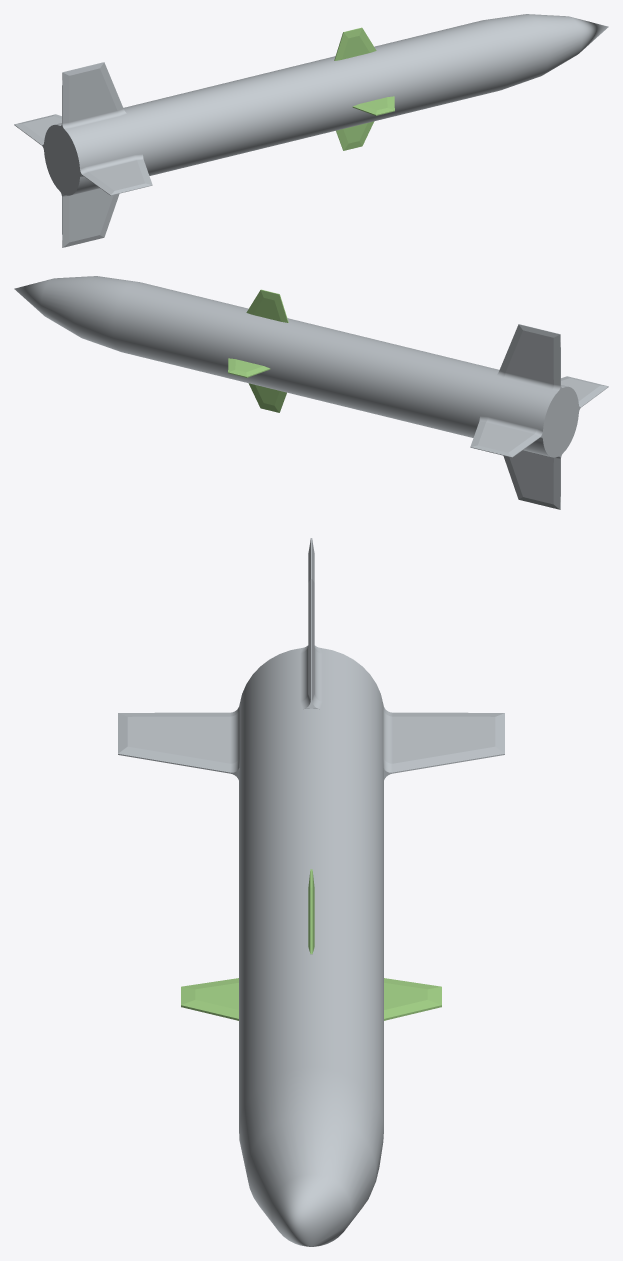
The model's file is MissileModel.fbx.
The picture shows the model from 3 angles, top to bottom: view 1: azimuth 30°, elevation 25°; view 2: azimuth 150°, elevation 25°; view 3: azimuth 270°, elevation 25°; orthographic projection. The views are drawn at different scales.
Parts seen in each view (by area): view 1: FixedWing, Rudder_L, Rudder_R, Wing1_Aileron_R; view 2: FixedWing, Rudder_L, Rudder_R, Wing1_Aileron_L; view 3: FixedWing, Wing1_Aileron_L, Wing1_Aileron_R.
Part boxes in pixels (bbox=[...]): FixedWing: bbox=[14, 14, 608, 247]; Rudder_L: bbox=[334, 27, 376, 60]; Rudder_R: bbox=[336, 121, 374, 150]; Wing1_Aileron_R: bbox=[352, 96, 394, 115]; FixedWing: bbox=[14, 276, 608, 509]; Rudder_L: bbox=[246, 289, 288, 322]; Rudder_R: bbox=[248, 383, 286, 412]; Wing1_Aileron_L: bbox=[228, 358, 270, 377]; FixedWing: bbox=[118, 538, 504, 1246]; Wing1_Aileron_L: bbox=[384, 978, 441, 1020]; Wing1_Aileron_R: bbox=[181, 978, 238, 1020].
Bounding box in the file's own units: 20.32 × 66.29 × 20.32.
